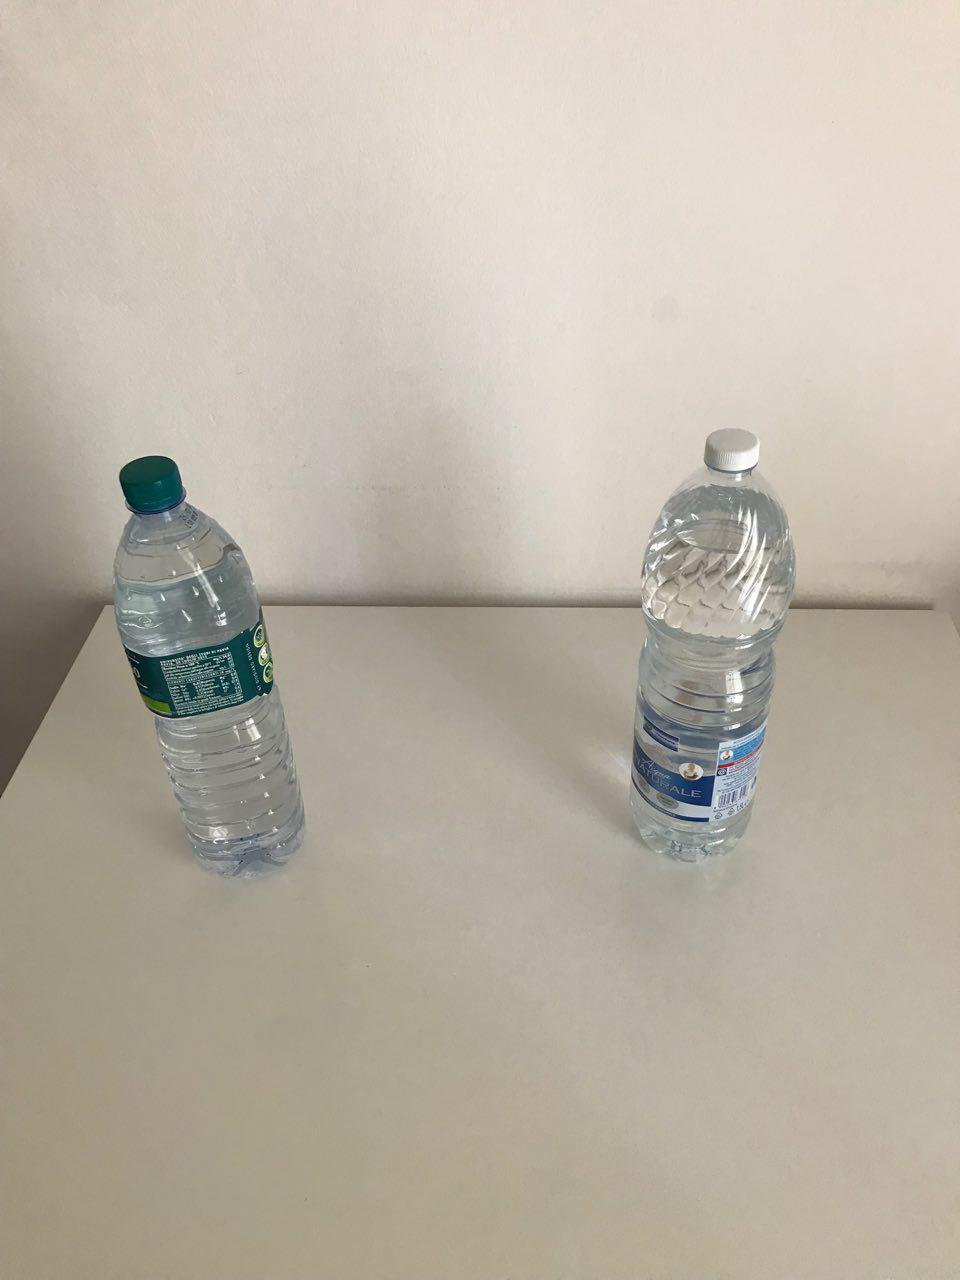san_bernardo: (111, 454, 307, 881)
